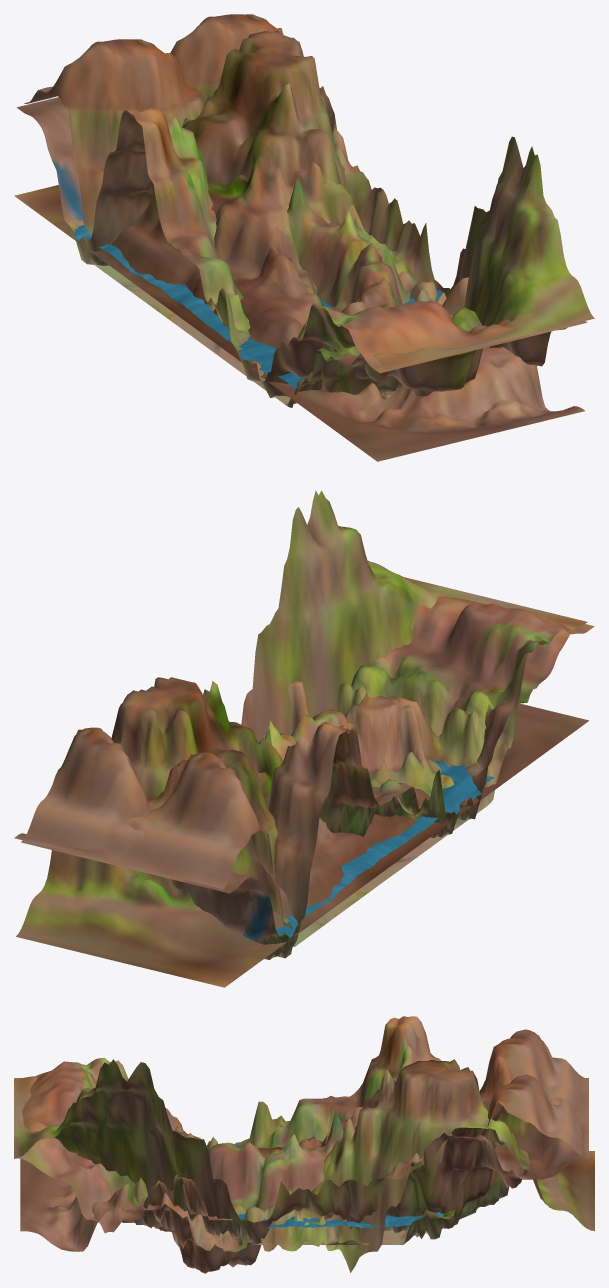
File: Earth_Terrain_Fixed_3.fbx
3 renders of one model, top to bottom at view 1: azimuth 30°, elevation 25°; view 2: azimuth 150°, elevation 25°; view 3: azimuth 270°, elevation 25°, orthographic. The views are drawn at different scales.
Parts seen in each view (by area): view 1: Earth_Terrain.006, Earth_Terrain.005, Earth_Terrain.007; view 2: Earth_Terrain.005, Earth_Terrain.007, Earth_Terrain.006; view 3: Earth_Terrain.005, Earth_Terrain.006, Earth_Terrain.007.
Part boxes in pixels (x1,y1,x2,y2): Earth_Terrain.006: [14, 30, 584, 461]; Earth_Terrain.005: [24, 39, 594, 407]; Earth_Terrain.007: [16, 14, 587, 397]; Earth_Terrain.005: [14, 490, 587, 946]; Earth_Terrain.007: [21, 596, 594, 959]; Earth_Terrain.006: [16, 677, 589, 987]; Earth_Terrain.005: [14, 1029, 588, 1243]; Earth_Terrain.006: [20, 1059, 594, 1273]; Earth_Terrain.007: [14, 1016, 588, 1244].
Size of the model in its own units: 205 by 276 by 606.
Materials: 5 (5 with a texture image).
